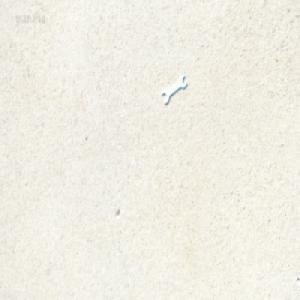Wrench: (162, 78, 185, 106)
